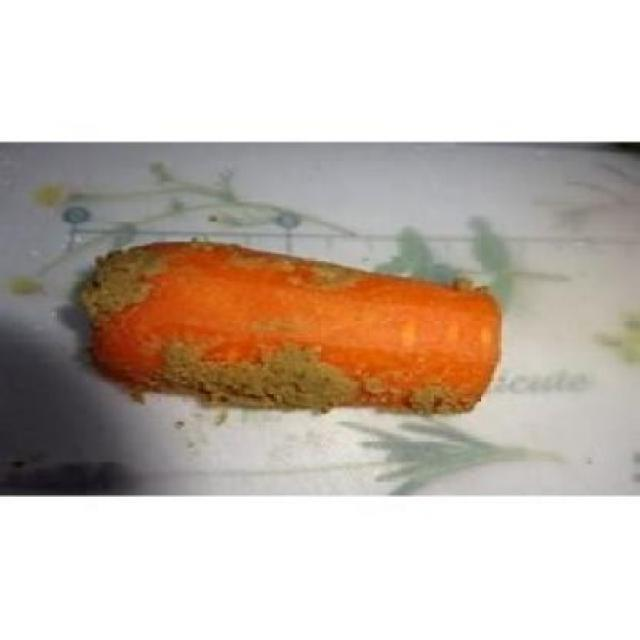carrot: (36, 218, 512, 450)
